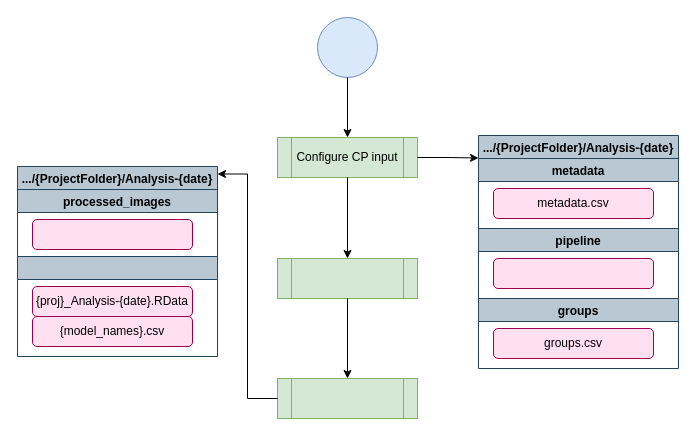
Some shapes in this 696 by 436 pixel diagram are drawn without their labels. Each missing label, with the box of its shape:
pipeline.cppipe: (492, 258, 654, 288)
Process CP output: (276, 378, 418, 418)
processed_data: (16, 256, 218, 356)
Project Folder: (316, 16, 378, 78)
Run CP: (276, 258, 418, 298)
{proc_image_names}.png: (32, 218, 192, 250)
